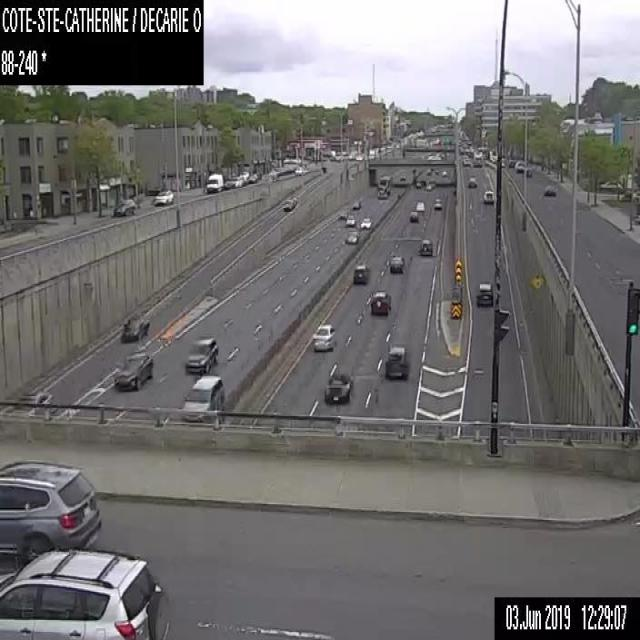vehicle: (0, 550, 162, 638), (0, 459, 99, 552), (180, 374, 223, 418), (115, 352, 152, 391), (185, 336, 218, 374), (323, 368, 351, 403), (384, 344, 407, 379), (344, 216, 371, 244), (121, 316, 149, 340), (311, 322, 334, 350), (337, 200, 362, 225), (370, 290, 391, 314), (475, 282, 493, 306), (112, 198, 135, 216), (352, 263, 370, 285), (205, 173, 223, 192), (388, 252, 404, 272), (377, 175, 391, 197), (154, 188, 173, 204), (418, 236, 432, 255), (282, 194, 297, 210), (600, 180, 621, 188), (483, 190, 494, 202), (223, 177, 234, 188), (472, 153, 481, 166), (544, 185, 555, 195), (514, 160, 524, 171), (408, 211, 418, 221), (467, 177, 476, 187), (434, 198, 442, 209), (234, 176, 242, 186), (248, 174, 257, 182), (416, 201, 424, 210), (428, 179, 436, 187), (240, 170, 248, 178), (295, 165, 301, 175), (491, 155, 497, 164), (463, 158, 470, 165), (508, 159, 514, 166), (399, 173, 405, 180), (416, 180, 422, 187), (501, 157, 505, 166), (426, 183, 430, 190), (442, 170, 446, 176), (426, 168, 430, 174), (435, 169, 438, 173)
